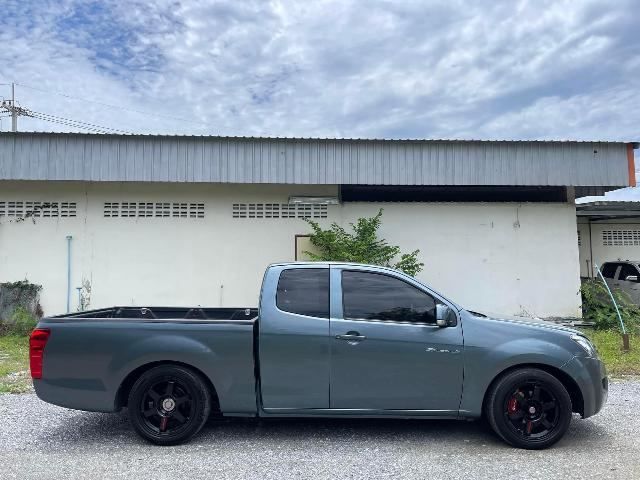pickup-truck: (19, 242, 620, 458)
